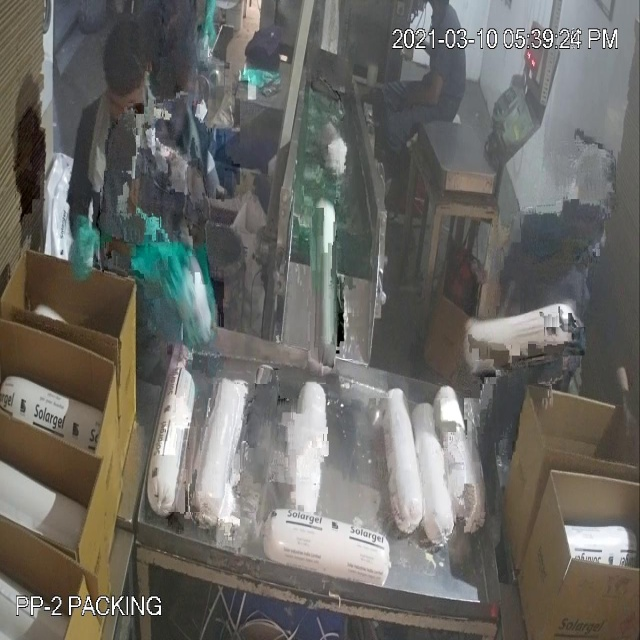Sin_guantes: (397, 67, 452, 117)
